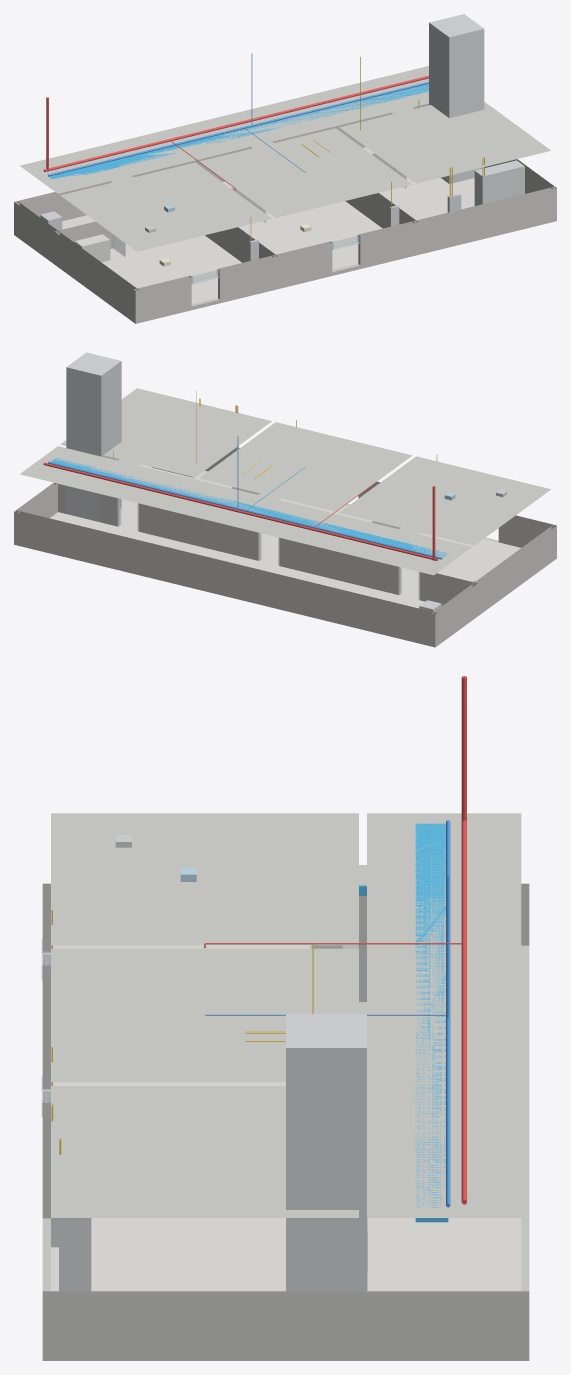
The picture shows the model from 3 angles, top to bottom: view 1: azimuth 30°, elevation 25°; view 2: azimuth 150°, elevation 25°; view 3: azimuth 270°, elevation 25°; orthographic projection. The views are drawn at different scales.
Visible parts, largest first — view 1: ceiling_3, ceiling_2, ceiling, ceiling_4, equipment_ELEV_1, room_102_GUEST, room_101_GUEST, wall_15, wall_2, duct_4, floor, room_104_ELEC (+15 smaller); view 2: ceiling_3, wall_13, ceiling_2, ceiling, ceiling_4, equipment_ELEV_1, room_103_CORRIDOR, wall_2, floor, room_101_GUEST, duct_4, wall_11 (+12 smaller); view 3: ceiling_3, ceiling, ceiling_2, ceiling_4, equipment_ELEV_1, wall_17, room_104_ELEC, room_103_CORRIDOR, wall_18, duct_4, floor, wall_13 (+9 smaller).
Boxes of the visible parts, <box> form: ceiling_3: <box>20,66,428,193</box>; ceiling_2: <box>199,128,412,217</box>; ceiling: <box>60,162,271,251</box>; ceiling_4: <box>339,102,550,183</box>; equipment_ELEV_1: <box>429,14,484,183</box>; room_102_GUEST: <box>238,201,382,269</box>; room_101_GUEST: <box>101,235,241,304</box>; wall_15: <box>416,186,555,251</box>; wall_2: <box>55,231,138,320</box>; duct_4: <box>49,84,428,179</box>; floor: <box>14,217,556,323</box>; room_104_ELEC: <box>379,178,474,220</box>; ceiling_3: <box>20,446,471,575</box>; wall_13: <box>14,510,436,643</box>; ceiling_2: <box>199,422,412,511</box>; ceiling: <box>339,456,550,545</box>; ceiling_4: <box>60,388,271,477</box>; equipment_ELEV_1: <box>66,352,121,522</box>; room_103_CORRIDOR: <box>50,512,424,608</box>; wall_2: <box>472,525,556,613</box>; floor: <box>14,503,556,647</box>; room_101_GUEST: <box>400,533,520,592</box>; duct_4: <box>51,457,448,558</box>; wall_11: <box>193,517,260,560</box>; ceiling_3: <box>310,813,521,1217</box>; ceiling: <box>51,813,358,945</box>; ceiling_2: <box>51,948,358,1082</box>; ceiling_4: <box>51,1086,358,1217</box>; equipment_ELEV_1: <box>286,1014,366,1291</box>; wall_17: <box>42,1291,366,1353</box>; room_104_ELEC: <box>51,1218,285,1291</box>; room_103_CORRIDOR: <box>367,1218,521,1291</box>; wall_18: <box>359,1291,529,1353</box>; duct_4: <box>415,823,448,1222</box>; floor: <box>42,945,529,1360</box>; wall_13: <box>521,883,529,1353</box>.
Size of the model in its own units: 18.29 by 6.25 by 9.16.
